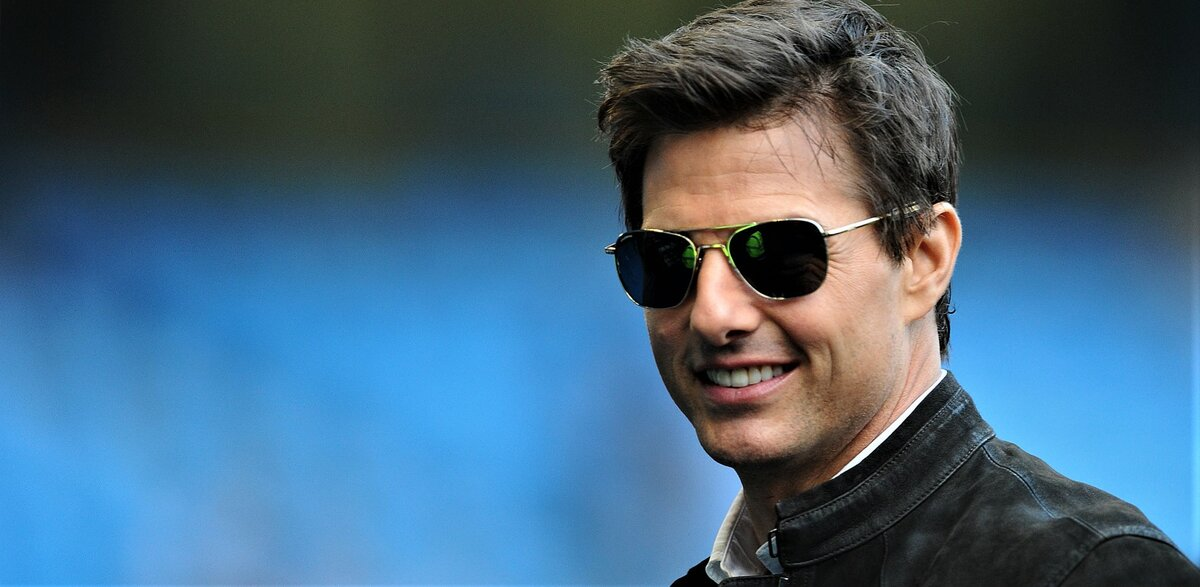glasses: (602, 204, 886, 320)
